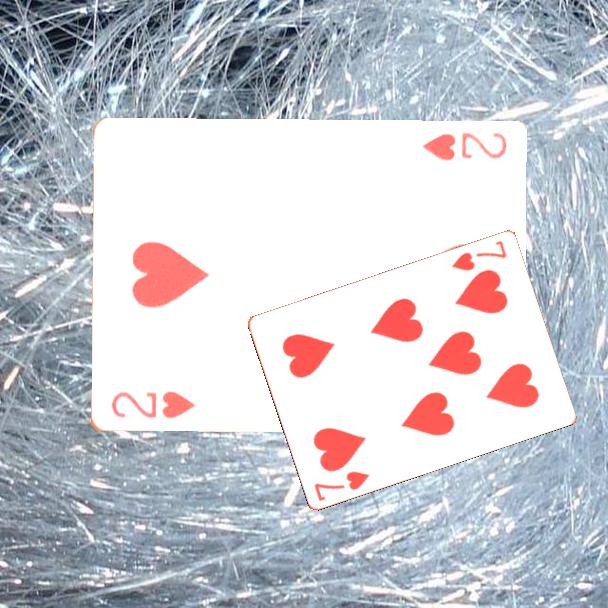h02: (419, 129, 510, 164), (107, 388, 198, 422)
h07: (310, 467, 373, 504), (448, 236, 510, 273)
